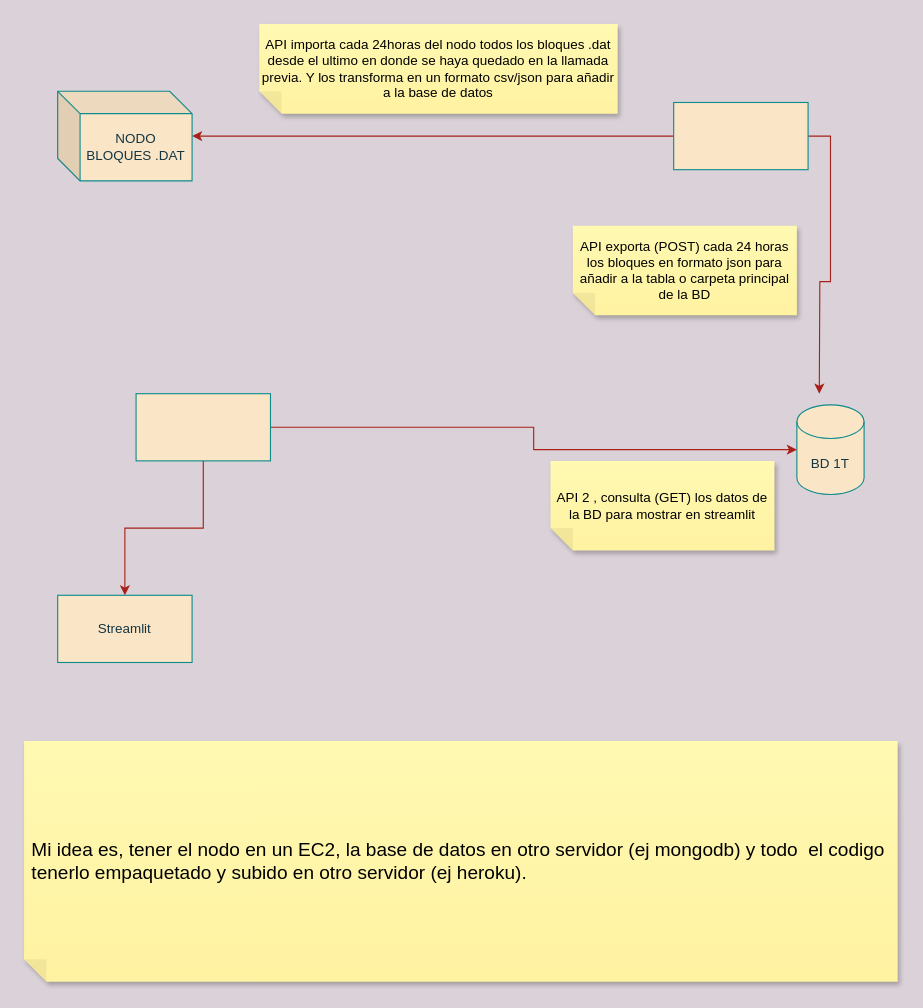
Some shapes in this 923 by 1008 pixel diagram are drawn without their labels. Each missing label, with the centre of its shape:
API: [740,135]
API 2: [202,427]
